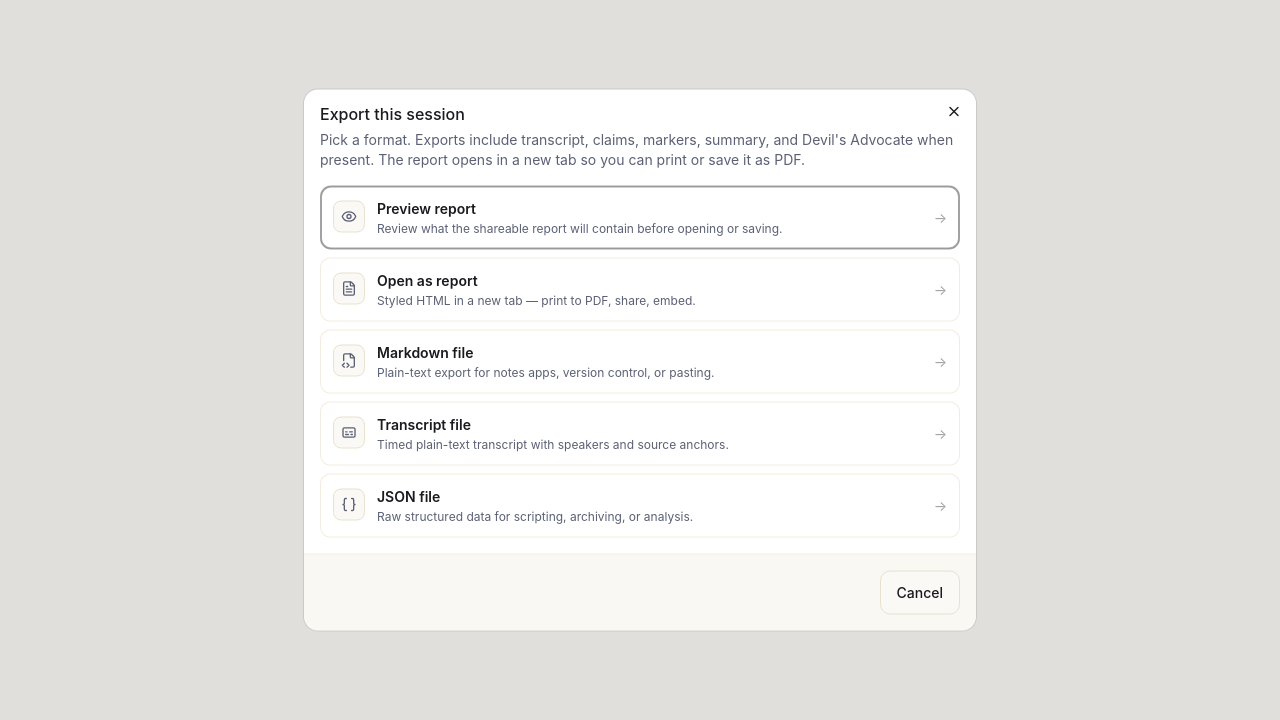
Scenario: ExportDialog › shows an in-dialog report preview before export
Click the button "Preview report": (640,218) [320, 186, 960, 250]
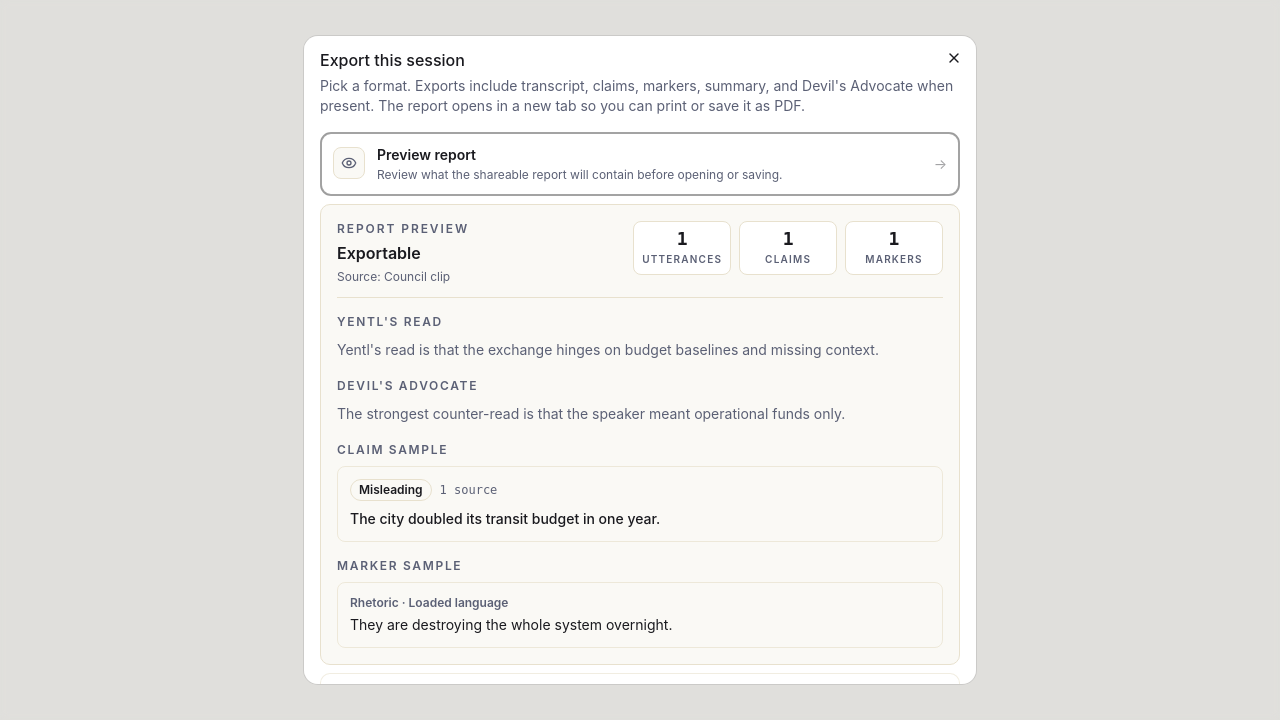
Expected: the element with test id "report-preview-panel" is shown, [320, 204, 960, 665]
Expected: the text "Yentl's read is that" is shown, [337, 341, 879, 358]
Expected: the text "The city doubled its transit budget in one year." is shown, [350, 510, 660, 527]
